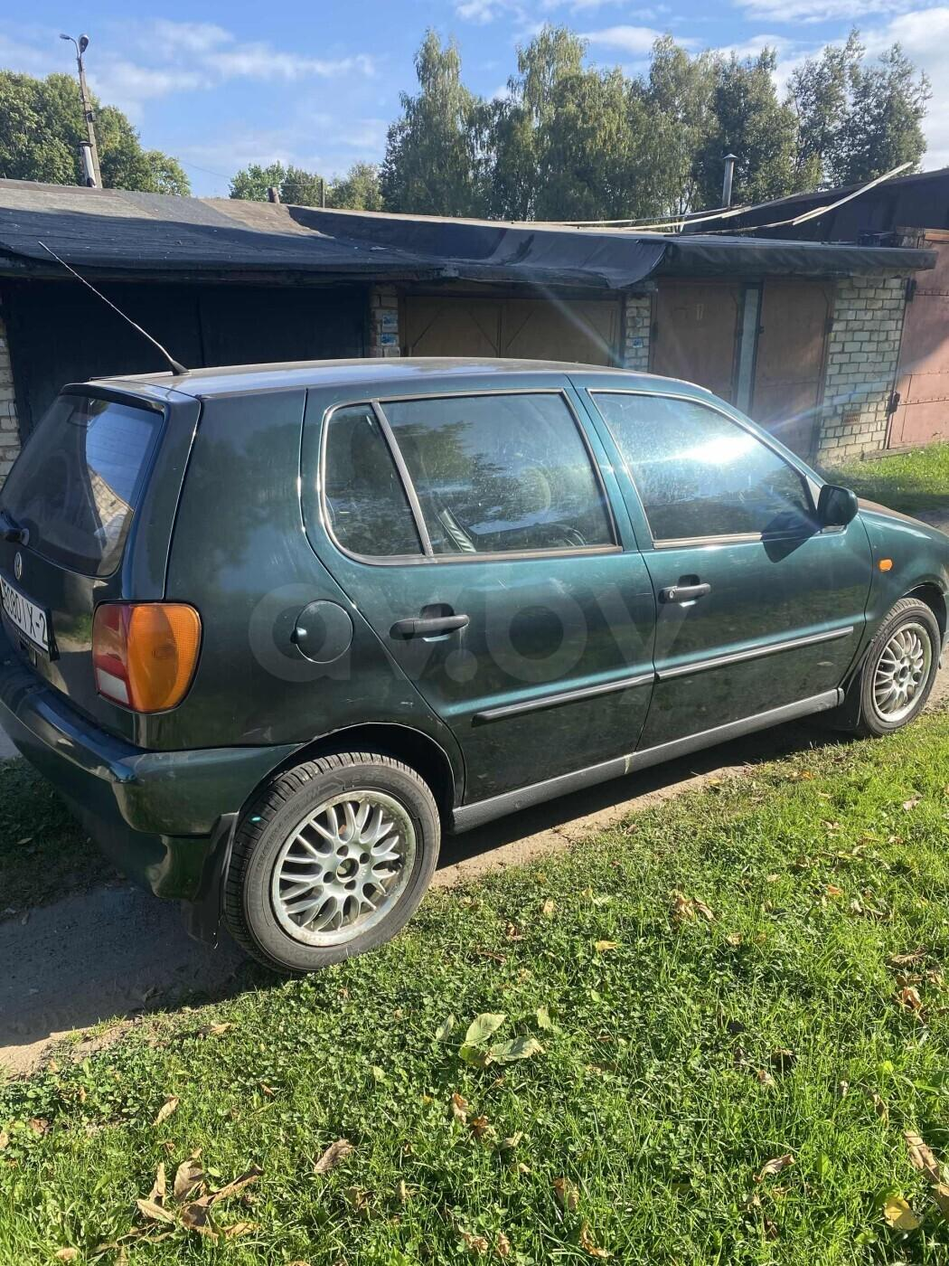Polo_1994-2002: (0, 359, 948, 975)
